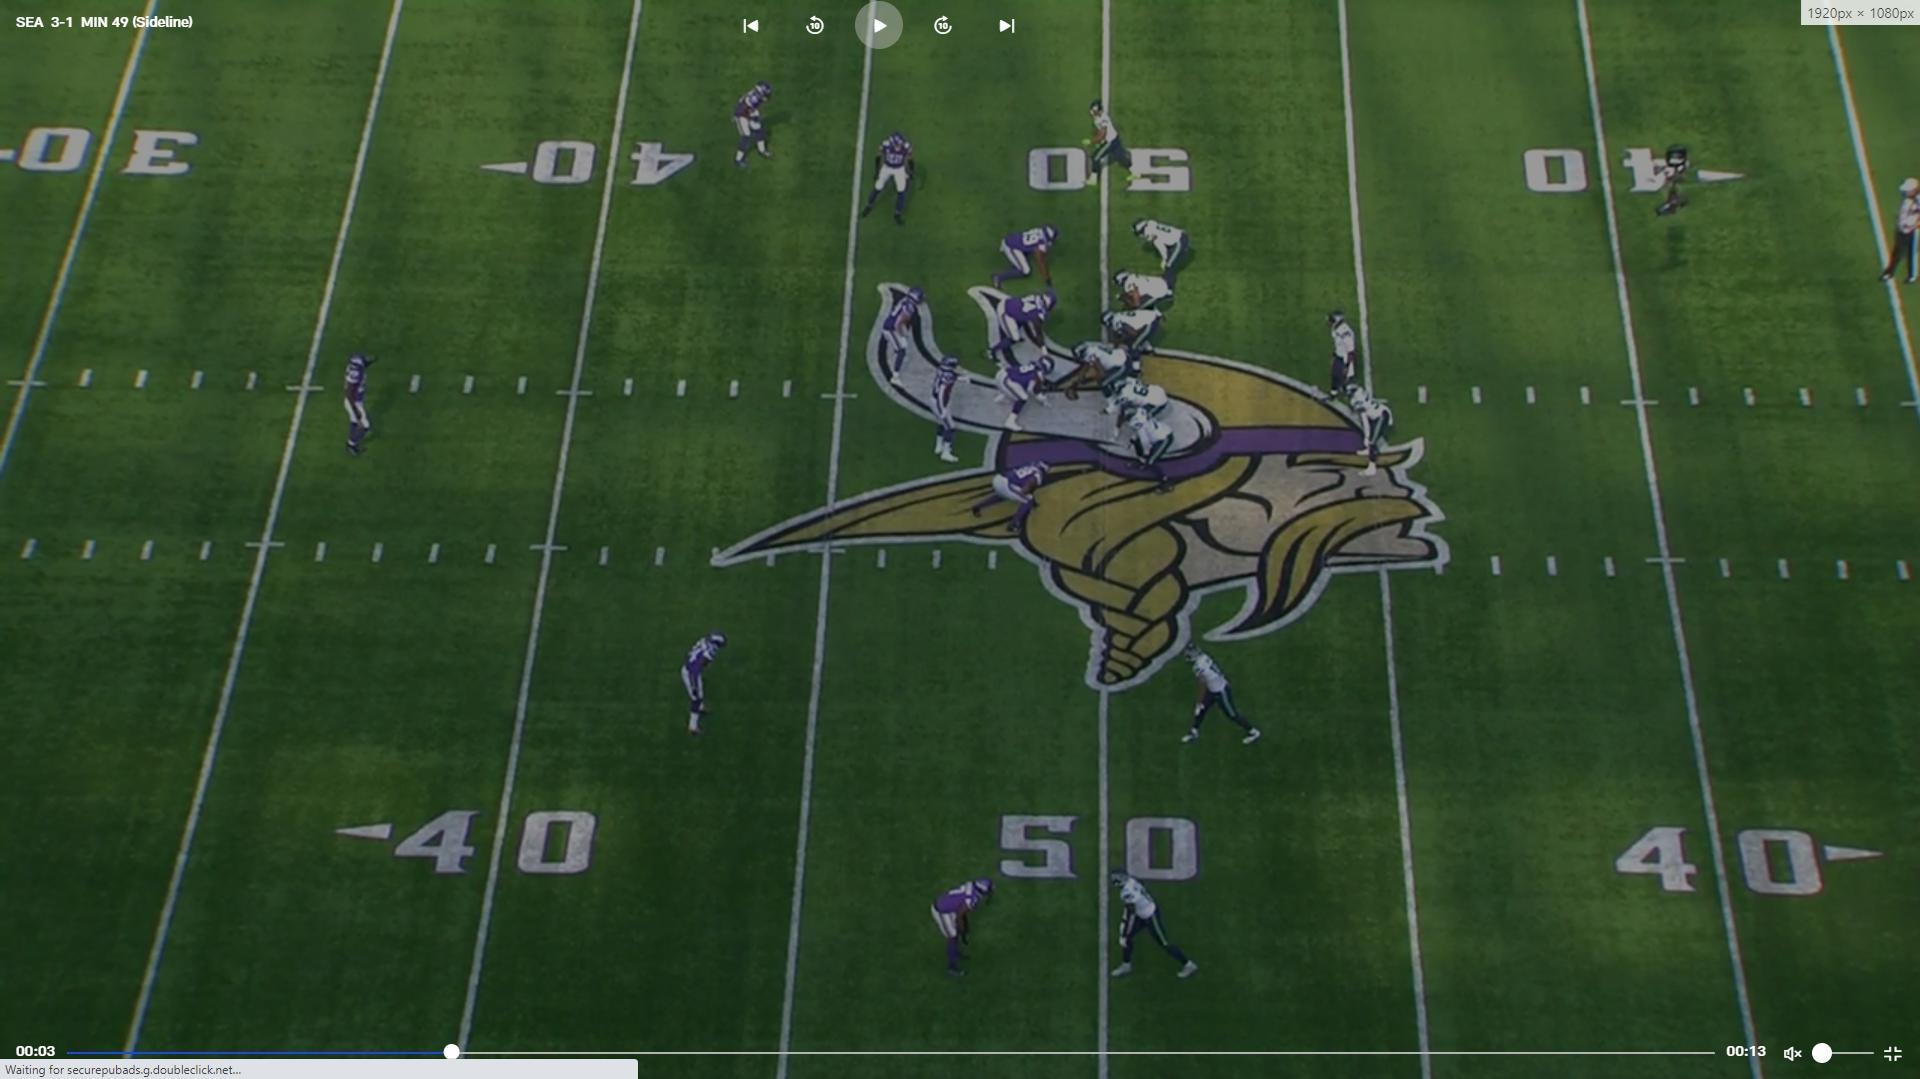player: (1101, 867, 1206, 991), (1175, 644, 1263, 754), (972, 455, 1059, 544), (930, 873, 998, 983), (1124, 391, 1192, 495), (679, 622, 737, 741), (873, 285, 927, 399), (986, 289, 1065, 363), (860, 130, 919, 228), (998, 348, 1065, 433), (1082, 100, 1147, 186), (337, 341, 378, 463), (1341, 384, 1398, 471), (1126, 217, 1188, 296), (996, 221, 1066, 290), (1110, 378, 1179, 448), (1068, 339, 1134, 411), (922, 353, 968, 456), (731, 77, 780, 172), (1096, 304, 1159, 375), (1323, 307, 1366, 410), (1118, 268, 1179, 338)
ref: (1882, 175, 1920, 286)
